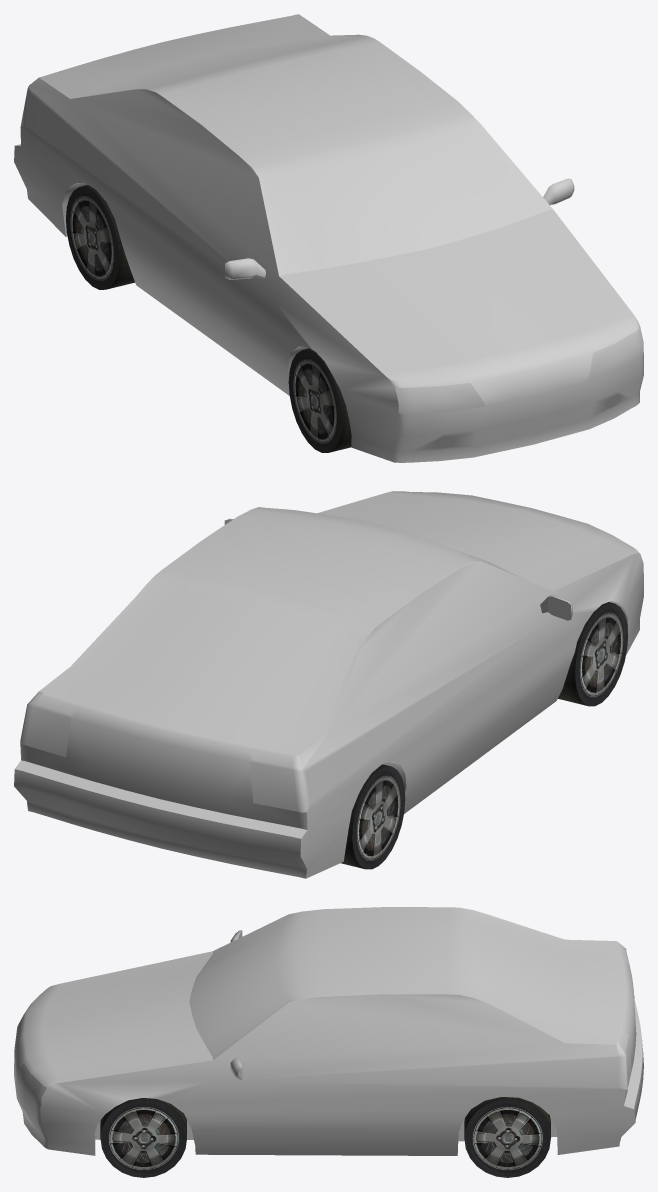
File: Tempra-2.fbx
3 views of the same model, one above another, from view 1: azimuth 30°, elevation 25°; view 2: azimuth 150°, elevation 25°; view 3: azimuth 270°, elevation 25° (orthographic). The views are drawn at different scales.
Parts seen in each view (by area): view 1: Car, BR, FR, Car ON; view 2: Car, FR, BR, Car ON; view 3: Car, BL, FL, Car ON.
Part boxes in pixels (box(x1,y1,x2,y2)): Car: box(14, 14, 643, 462); BR: box(66, 185, 134, 289); FR: box(288, 348, 351, 452); Car ON: box(20, 84, 643, 447); Car: box(14, 491, 643, 878); FR: box(558, 602, 628, 706); BR: box(340, 764, 405, 869); Car ON: box(20, 702, 310, 812); Car: box(14, 907, 643, 1155); BL: box(464, 1097, 550, 1177); FL: box(100, 1098, 186, 1177); Car ON: box(17, 948, 631, 1123).
Bounding box in the file's own units: 2.35 × 1.38 × 4.53.
